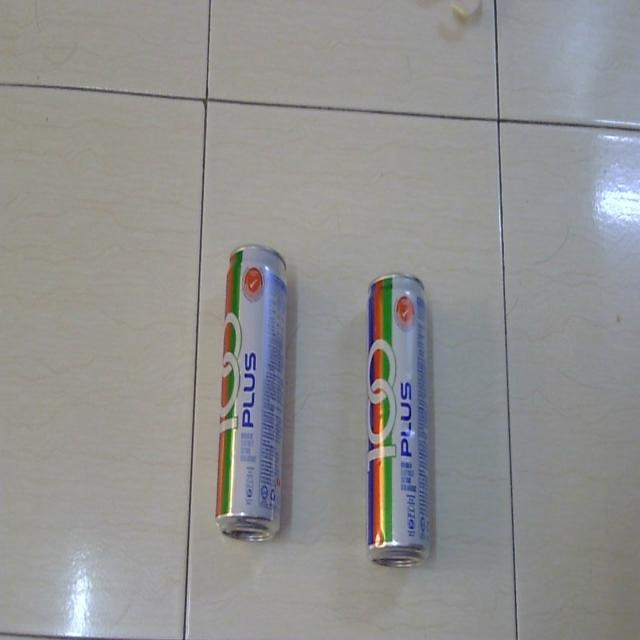metal_laydown_90rotation: (209, 227, 298, 552), (358, 268, 447, 576)
